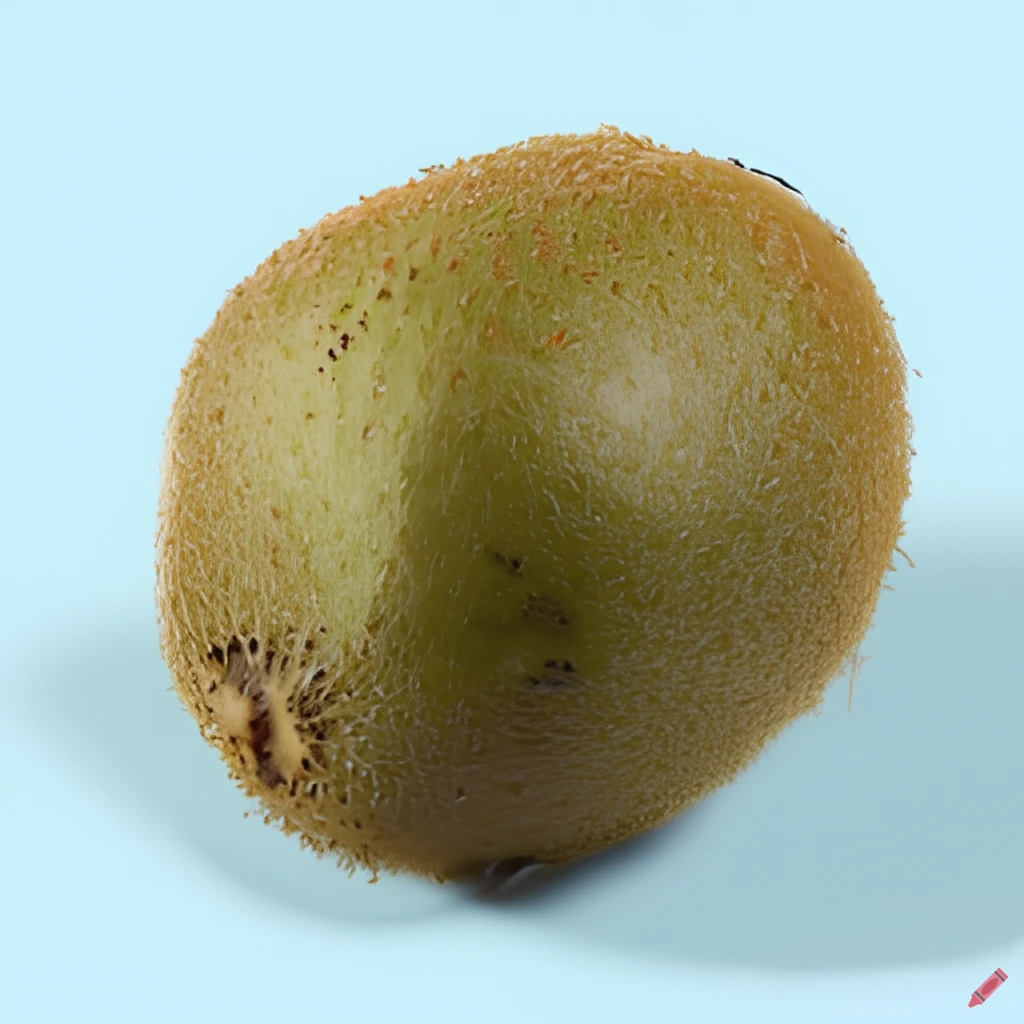Kiwi: (139, 106, 900, 898)
